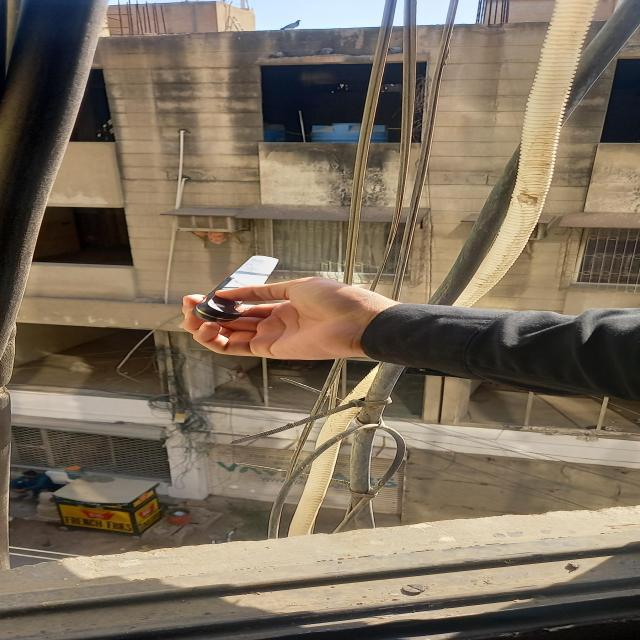faca: (193, 255, 280, 322)
